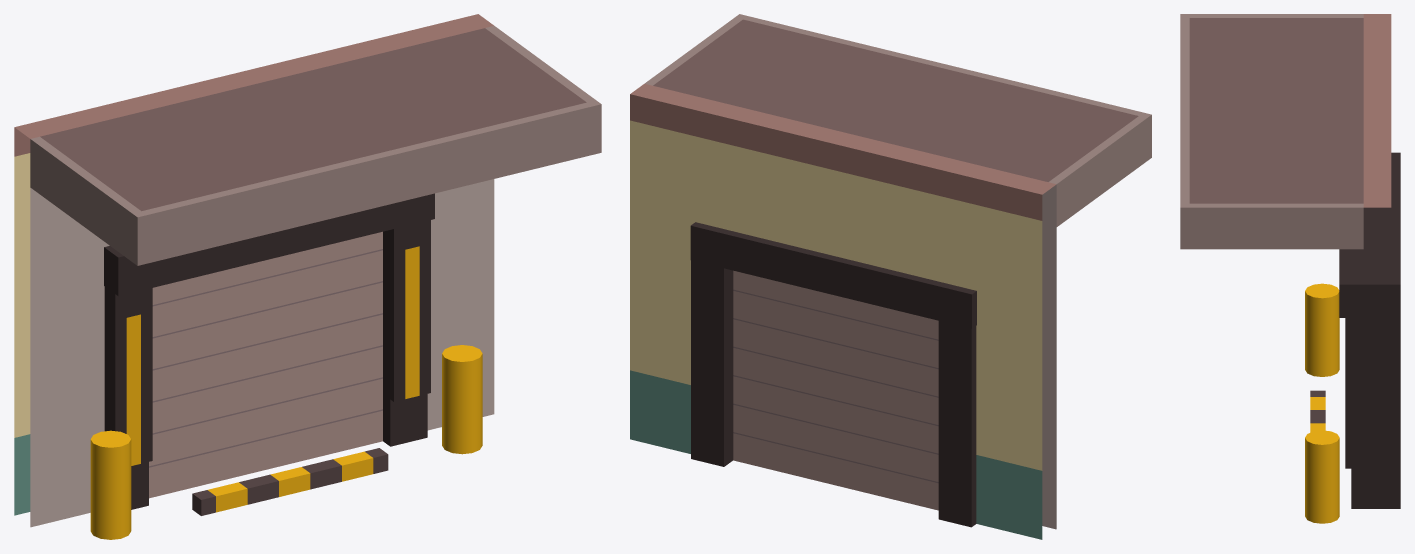
The model's file is truck_parking.fbx.
3 views of the same model, side by side, from view 1: azimuth 30°, elevation 25°; view 2: azimuth 150°, elevation 25°; view 3: azimuth 270°, elevation 25° (orthographic). The views are drawn at different scales.
Parts seen in each view (by area): view 1: parking, truck_exit; view 2: parking, truck_exit; view 3: parking.
Boxes of the visible parts, x1,y1,x2,y2 form: parking: (14,14,601,539); truck_exit: (149,231,382,498); parking: (630,14,1151,539); truck_exit: (733,270,938,510); parking: (1180,14,1400,523).
Size of the model in its own units: 500 by 400 by 240.
